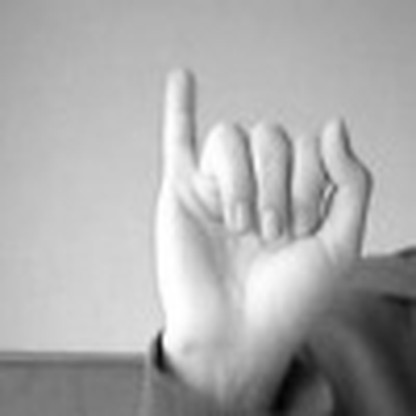i: (140, 56, 381, 361)
